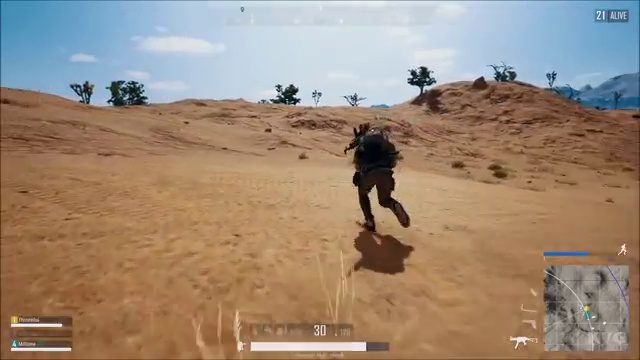Player: (329, 121, 424, 235)
